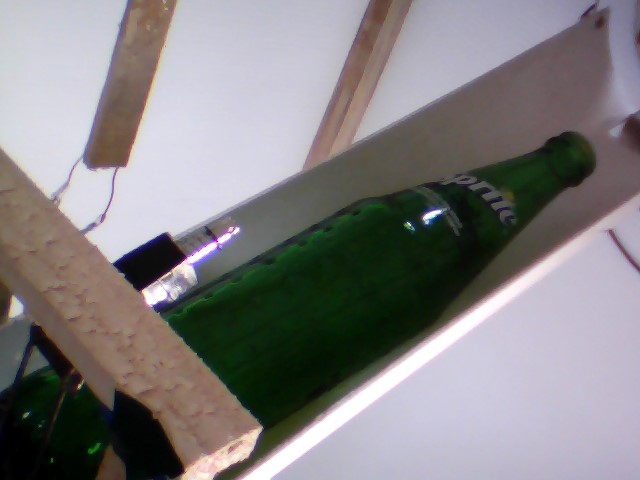vidrio: (175, 117, 604, 429)
